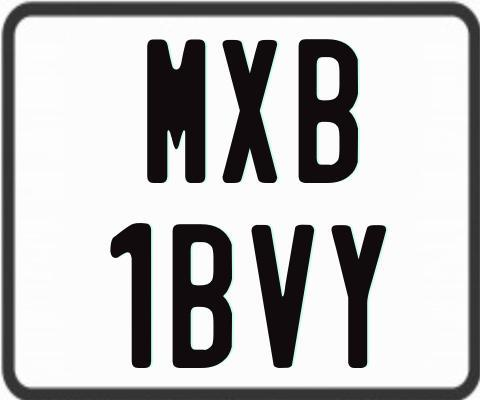1: (107, 220, 149, 366)
B: (171, 221, 234, 367), (298, 39, 359, 188)
M: (146, 36, 210, 186)
V: (252, 224, 318, 371)
X: (220, 38, 276, 182)
Y: (331, 225, 386, 374)
